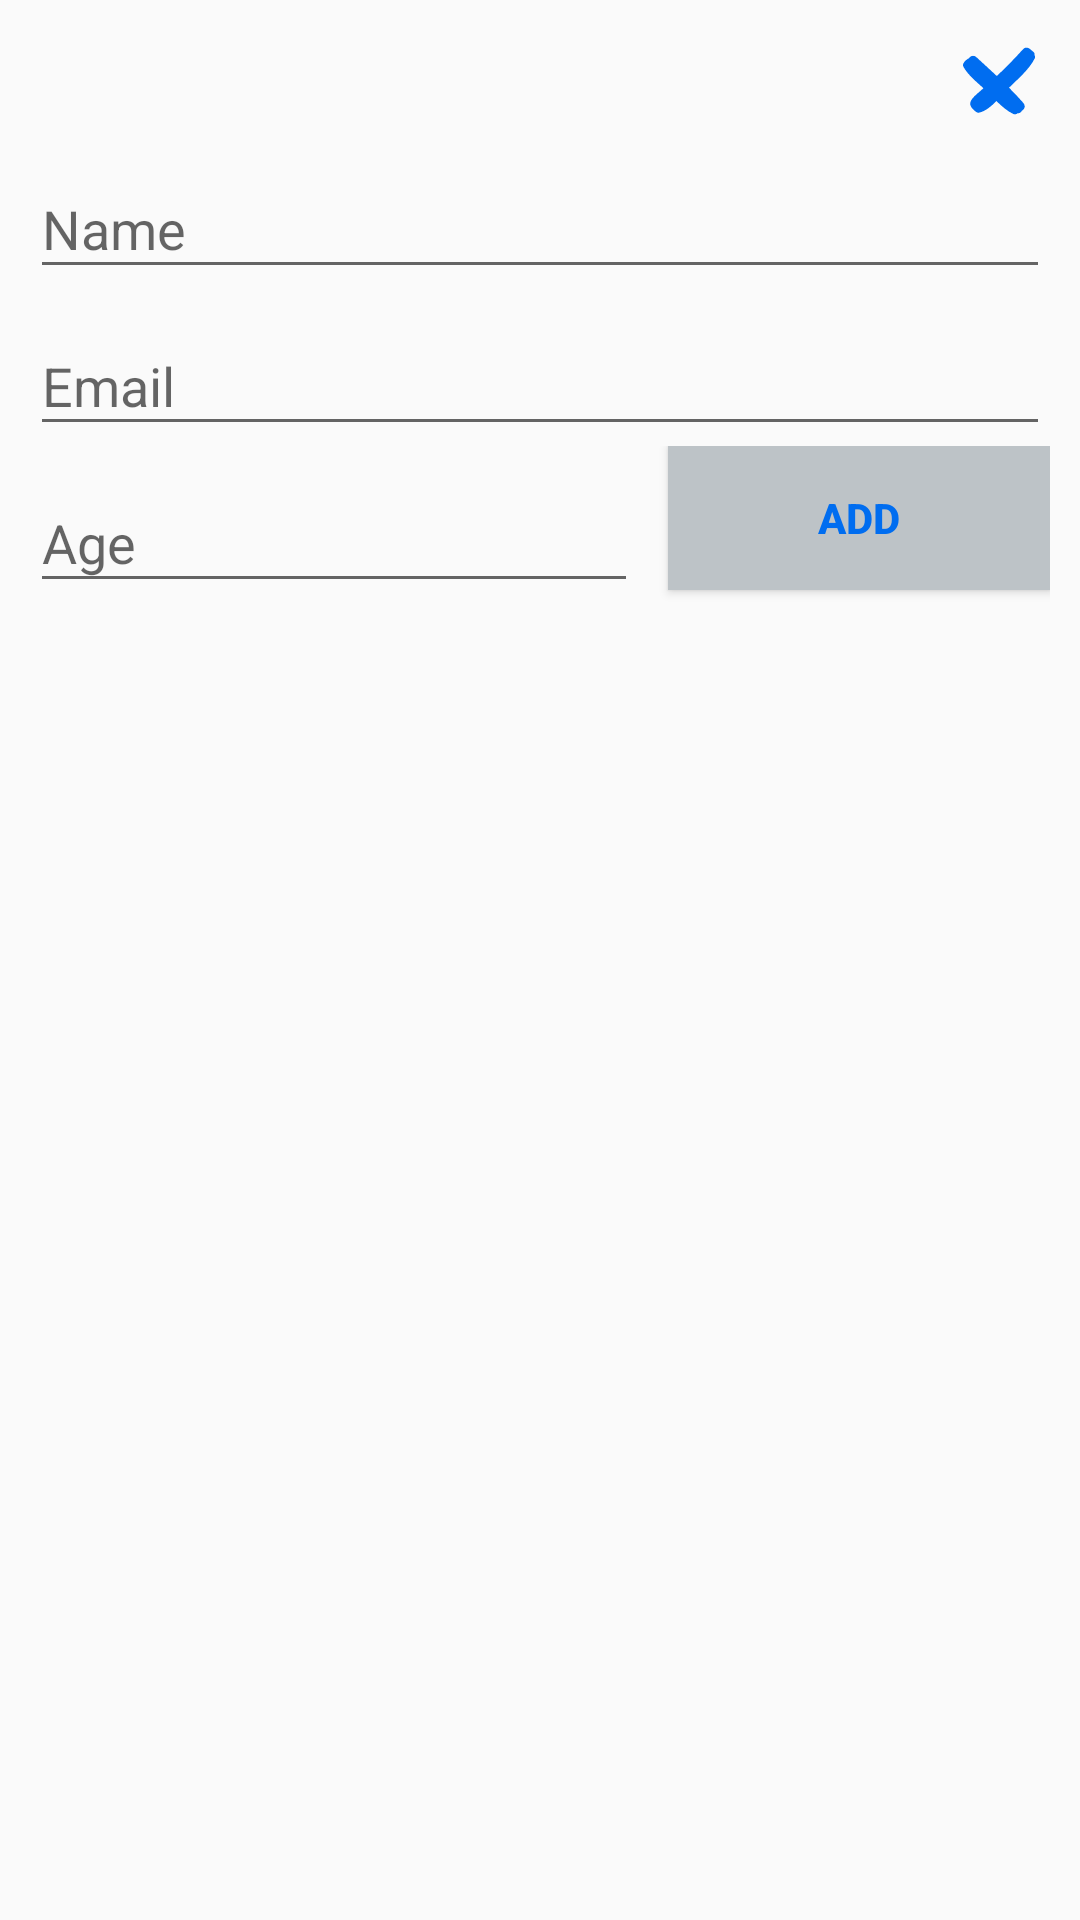

Locate icon controls on the screen. Image size 1080px x 1920px, boxes as [x1,y1,x2,y2].
cross: [963,47,1035,115]
